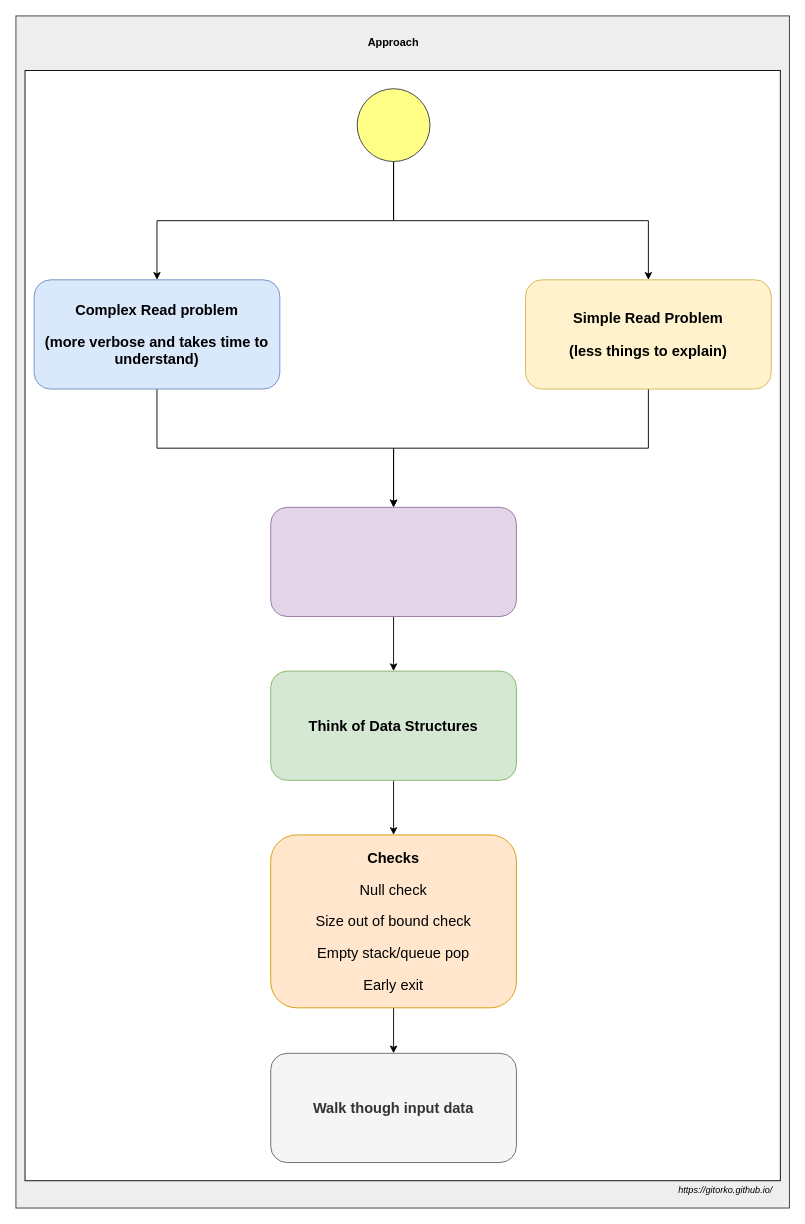
Image size: 805x1224. Some labels were removed from this diagram. Here are the shapes that lost their labels. From the top down, the centre of each, then its label:
At point 393,125: "Start".
At point 393,561: "Work On Example (Understand how the result is derived)".
